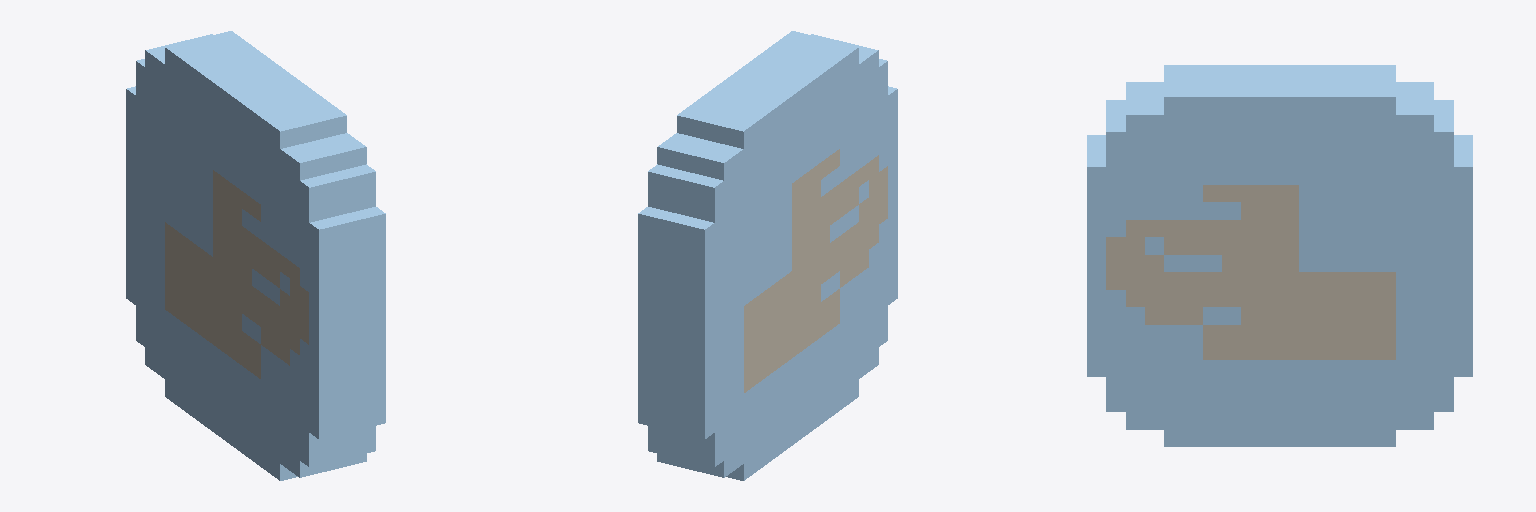
3 renders of one model, left to right at view 1: azimuth 30°, elevation 25°; view 2: azimuth 150°, elevation 25°; view 3: azimuth 270°, elevation 25°, orthographic.
Bounding box in the file's own units: 4 × 20 × 20.
1 materials, 1 textured.